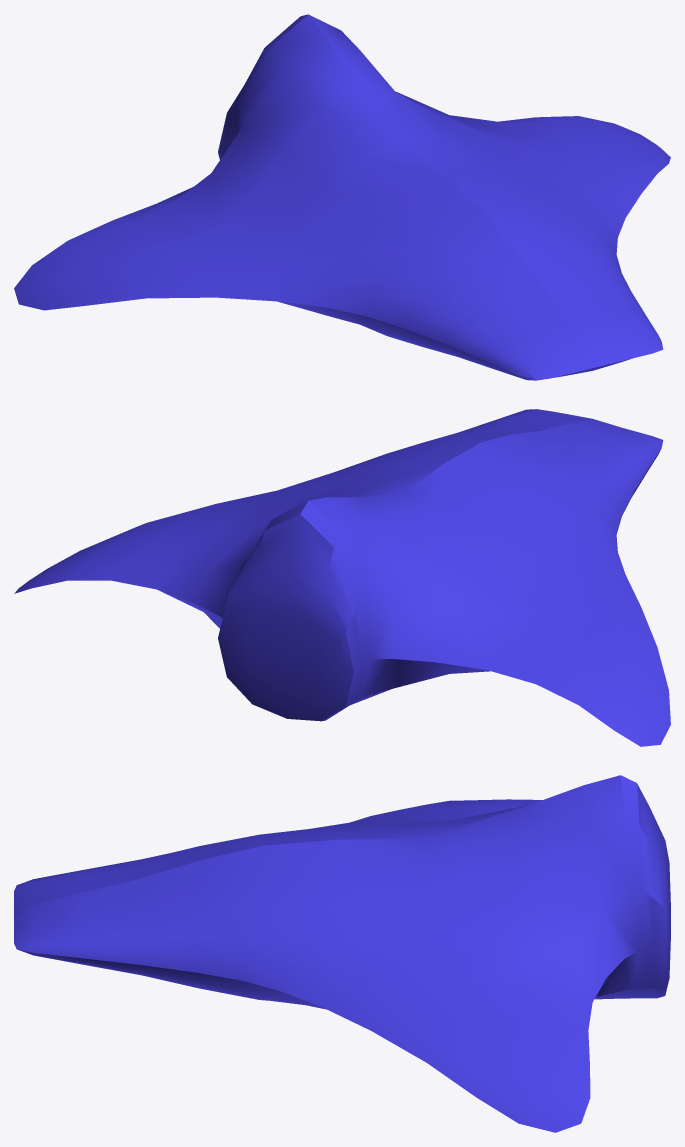
File: ship_a.glb
3 renders of one model, top to bottom at view 1: azimuth 30°, elevation 25°; view 2: azimuth 150°, elevation 25°; view 3: azimuth 270°, elevation 25°, orthographic. The views are drawn at different scales.
Parts seen in each view (by area): view 1: Cube; view 2: Cube; view 3: Cube.
Boxes of the visible parts, <box> form: Cube: <box>14,14,670,380</box>; Cube: <box>14,409,670,746</box>; Cube: <box>14,775,670,1132</box>.
Size of the model in its own units: 8.86 by 2.81 by 7.58.
